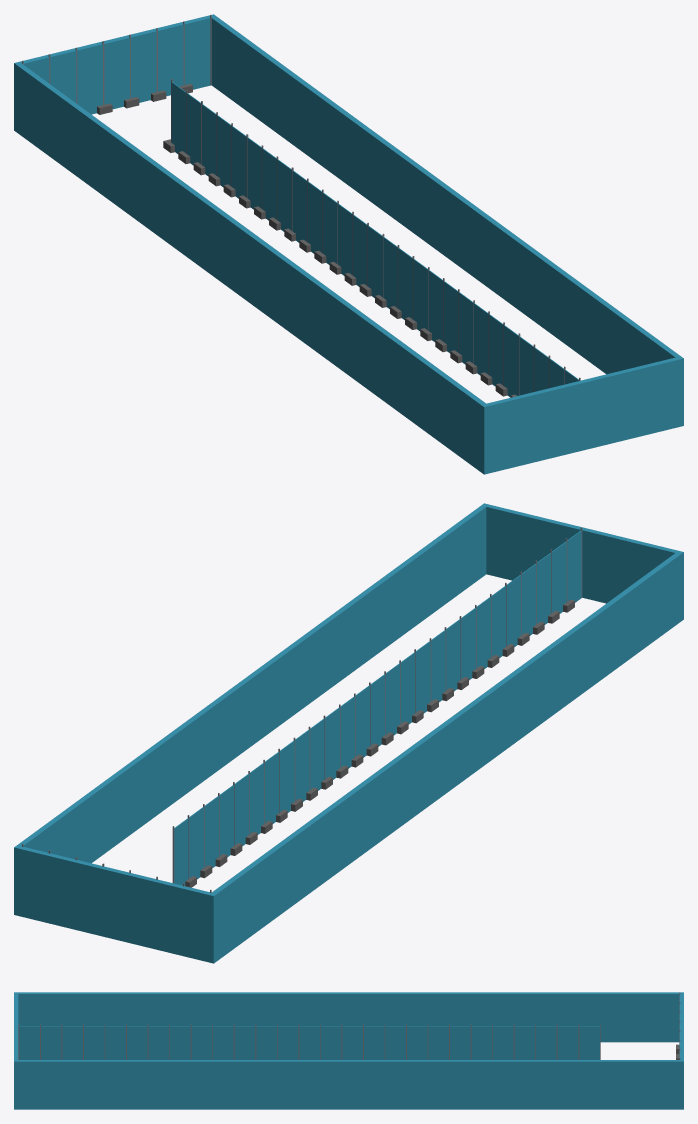
Rendered from gamezone.dae.
3 renders of one model, top to bottom at view 1: azimuth 30°, elevation 25°; view 2: azimuth 150°, elevation 25°; view 3: azimuth 270°, elevation 25°, orthographic. The views are drawn at different scales.
Parts seen in each view (by area): view 1: walls, bricks, sticks; view 2: walls, bricks, sticks; view 3: walls, sticks.
Boxes of the visible parts, x1,y1,x2,y2 form: walls: (14,14,683,474); bricks: (97,83,516,397); sticks: (22,15,580,395); walls: (14,503,683,963); bricks: (185,599,574,887); sticks: (22,527,582,892); walls: (14,992,683,1109); sticks: (18,992,680,1059).
Size of the model in its own units: 9.3 by 37.9 by 3.12.
